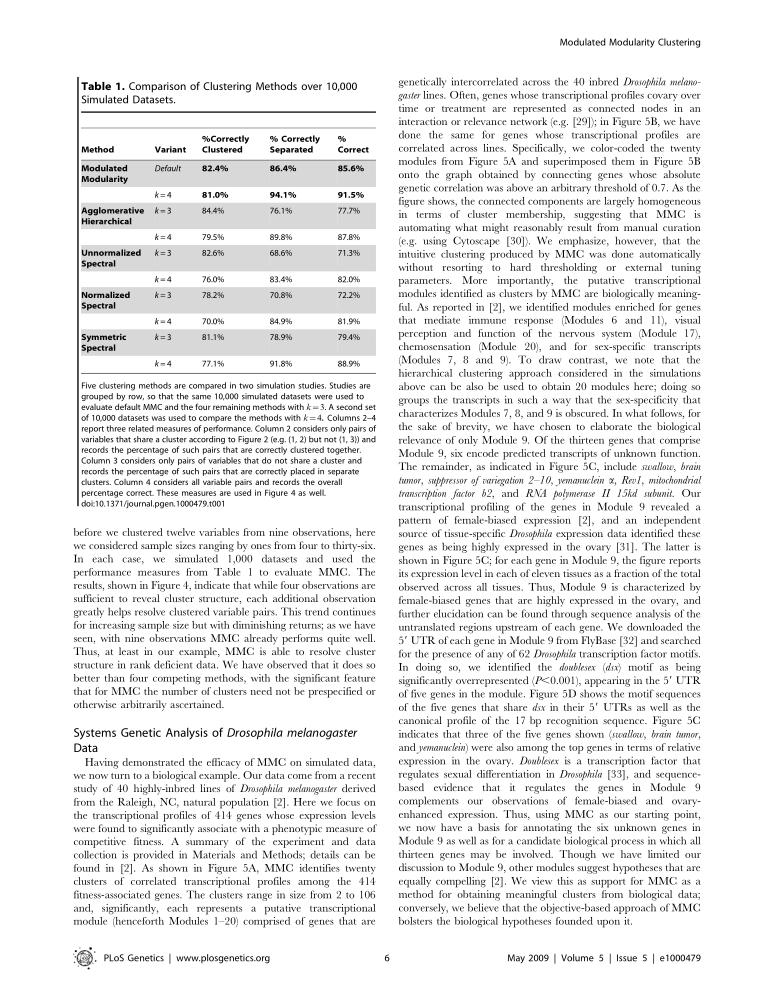table: (81, 135, 368, 368)
